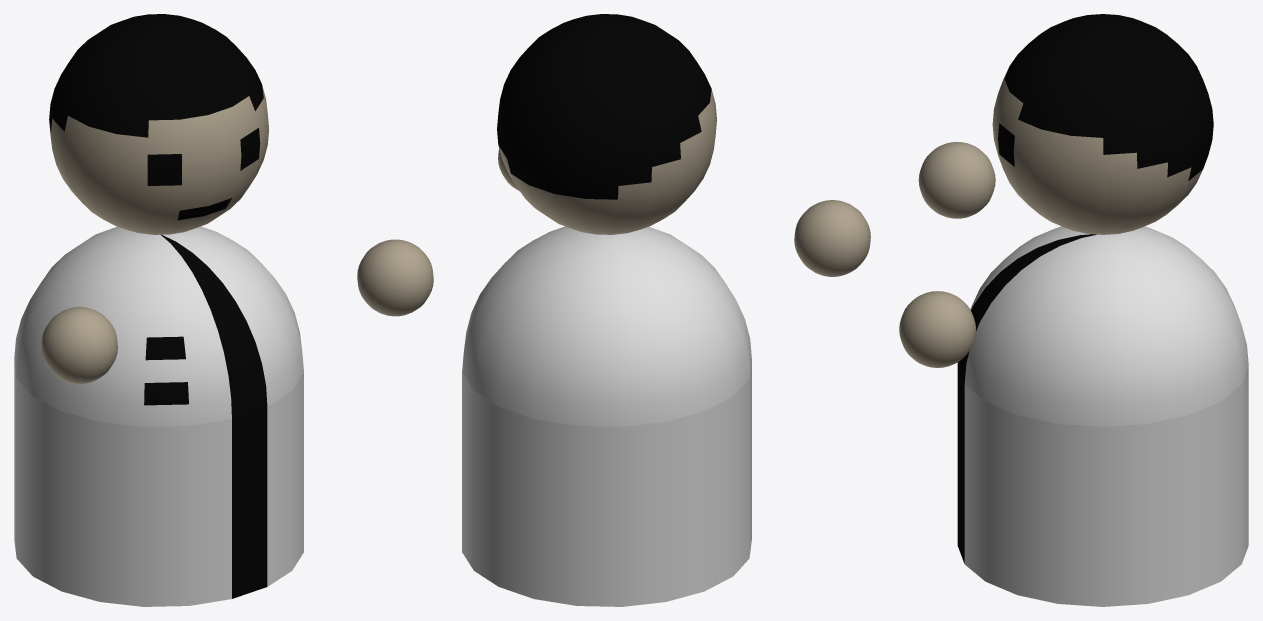
The picture shows the model from 3 angles, left to right: view 1: azimuth 30°, elevation 25°; view 2: azimuth 150°, elevation 25°; view 3: azimuth 270°, elevation 25°; orthographic projection.
Visible parts, largest first — view 1: pSphere5; view 2: pSphere5; view 3: pSphere5.
Boxes of the visible parts, left/top/right/bottom form: pSphere5: left=14, top=14, right=433, bottom=606; pSphere5: left=462, top=14, right=870, bottom=606; pSphere5: left=899, top=14, right=1248, bottom=606.
Size of the model in its own units: 2.95 by 3.95 by 2.4.
